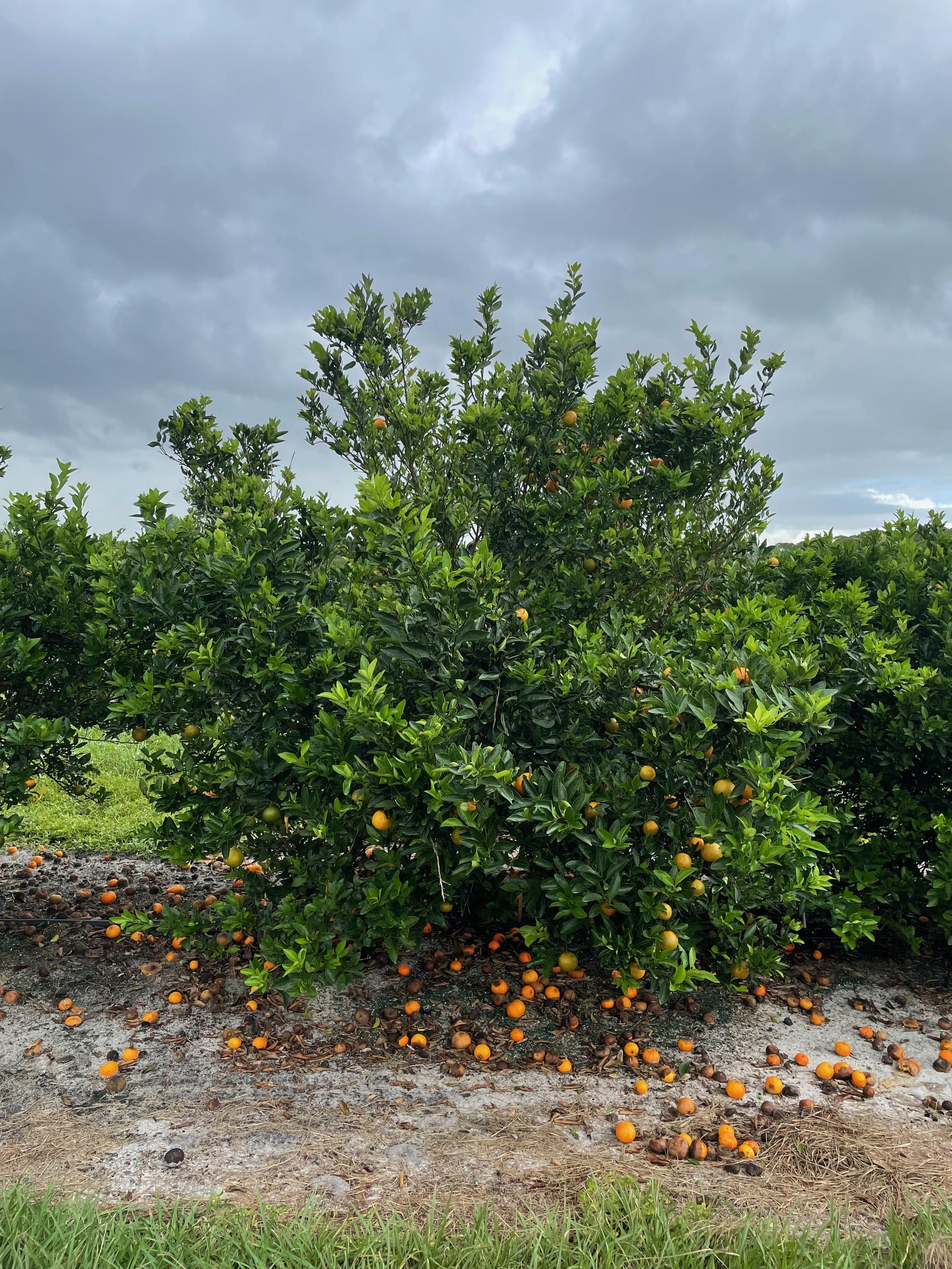fruit_on_ground: (736, 773, 766, 801), (728, 662, 754, 688), (512, 770, 539, 795), (221, 844, 246, 869), (369, 808, 395, 832), (712, 776, 737, 800), (662, 708, 688, 731), (557, 758, 584, 780), (582, 799, 607, 822), (556, 950, 580, 973), (656, 929, 680, 952), (611, 489, 635, 511), (348, 787, 373, 808), (729, 959, 752, 981), (259, 804, 283, 825), (195, 783, 220, 803), (449, 825, 470, 847), (511, 604, 532, 626), (702, 842, 724, 863), (625, 960, 646, 981), (671, 850, 693, 870), (659, 664, 680, 684), (597, 897, 618, 917), (640, 817, 661, 837), (654, 901, 674, 921), (588, 446, 607, 467), (687, 877, 706, 898), (546, 463, 565, 483), (696, 741, 716, 760), (130, 724, 150, 743), (625, 684, 646, 702), (648, 454, 667, 473), (602, 715, 621, 734), (662, 793, 681, 812), (560, 409, 579, 428), (182, 722, 202, 740), (520, 468, 539, 486), (638, 763, 657, 781), (602, 433, 620, 451), (544, 477, 562, 495), (686, 834, 705, 851), (521, 432, 539, 449), (371, 415, 389, 432), (437, 898, 455, 914), (215, 931, 232, 947), (657, 397, 674, 413), (765, 554, 782, 570), (582, 556, 598, 573), (262, 958, 278, 973), (72, 782, 88, 797), (21, 775, 37, 789)
fruit_on_tree: (614, 1119, 637, 1143), (667, 1133, 690, 1156), (687, 1137, 708, 1160), (450, 1029, 472, 1049), (716, 1131, 738, 1151), (506, 998, 527, 1018), (725, 1079, 746, 1099), (901, 1058, 922, 1076), (119, 1045, 140, 1063), (97, 1059, 118, 1077), (835, 1044, 854, 1063), (677, 1096, 696, 1115), (352, 1006, 372, 1024), (716, 1122, 736, 1140), (648, 1135, 668, 1153), (764, 1075, 784, 1093), (832, 1060, 853, 1077), (674, 1129, 693, 1147), (816, 1060, 835, 1078), (887, 1041, 906, 1059), (737, 1142, 756, 1160), (105, 1074, 125, 1091), (740, 1138, 760, 1155), (644, 1045, 662, 1063), (473, 1043, 491, 1061), (520, 967, 539, 984), (748, 981, 766, 998), (3, 988, 21, 1005), (490, 977, 508, 994), (404, 998, 422, 1015), (411, 1031, 428, 1049), (566, 965, 586, 980), (633, 1078, 650, 1095), (809, 1009, 827, 1025), (834, 1040, 852, 1056), (850, 1070, 867, 1086), (659, 1066, 676, 1082), (556, 1057, 572, 1074), (936, 1049, 952, 1066), (246, 860, 264, 875), (141, 1009, 159, 1024), (760, 1098, 776, 1114), (520, 982, 536, 998), (509, 1026, 525, 1042), (937, 1036, 952, 1053), (57, 996, 74, 1011), (251, 1034, 268, 1049), (448, 1063, 466, 1077), (64, 1013, 82, 1027), (685, 1001, 701, 1016), (623, 982, 639, 997), (623, 1040, 639, 1055), (794, 1051, 810, 1066), (516, 950, 533, 964), (701, 1010, 718, 1024), (677, 1037, 694, 1051), (863, 1070, 878, 1085), (863, 1083, 878, 1098), (105, 923, 120, 938), (765, 1052, 781, 1066), (617, 995, 633, 1009), (226, 1035, 242, 1049), (858, 1024, 874, 1038), (167, 990, 183, 1004), (100, 890, 116, 904), (544, 984, 560, 998), (406, 979, 423, 992), (165, 882, 182, 895), (529, 981, 546, 994), (123, 1007, 138, 1021), (567, 1014, 581, 1029), (531, 1047, 546, 1061), (602, 1031, 618, 1044), (23, 923, 39, 936), (798, 1097, 814, 1110), (332, 1041, 348, 1054), (702, 1064, 716, 1078), (396, 1033, 410, 1047), (799, 995, 813, 1009), (205, 1097, 220, 1110), (609, 967, 624, 980), (21, 910, 36, 923), (245, 998, 260, 1011), (397, 963, 412, 976), (937, 1016, 951, 1029), (364, 846, 377, 860), (917, 912, 931, 925), (191, 899, 205, 912), (782, 940, 796, 953), (798, 969, 812, 982), (462, 942, 476, 955), (816, 973, 830, 986), (600, 995, 614, 1008), (640, 991, 655, 1003), (548, 963, 563, 975), (874, 1028, 889, 1040), (26, 859, 39, 872), (204, 893, 217, 906), (231, 877, 244, 890), (244, 934, 257, 947), (230, 929, 243, 942), (187, 958, 200, 971), (450, 958, 463, 971), (248, 982, 262, 994), (222, 1026, 236, 1038), (634, 998, 648, 1010), (563, 988, 577, 1000), (785, 994, 799, 1006), (766, 1041, 780, 1053), (49, 892, 63, 904), (32, 932, 46, 944), (34, 887, 49, 898), (432, 949, 447, 960), (508, 925, 521, 937), (422, 958, 435, 970), (172, 936, 185, 948), (488, 939, 501, 951), (130, 930, 143, 942), (30, 854, 43, 866), (178, 859, 192, 870), (163, 950, 177, 961), (5, 844, 19, 855), (421, 921, 433, 933), (811, 949, 823, 961), (152, 900, 164, 912), (492, 932, 505, 943), (200, 988, 213, 999), (480, 963, 492, 974), (125, 884, 137, 895), (107, 877, 119, 888), (258, 895, 271, 905), (146, 933, 158, 943), (53, 848, 65, 858), (102, 851, 113, 861), (36, 843, 46, 853)
